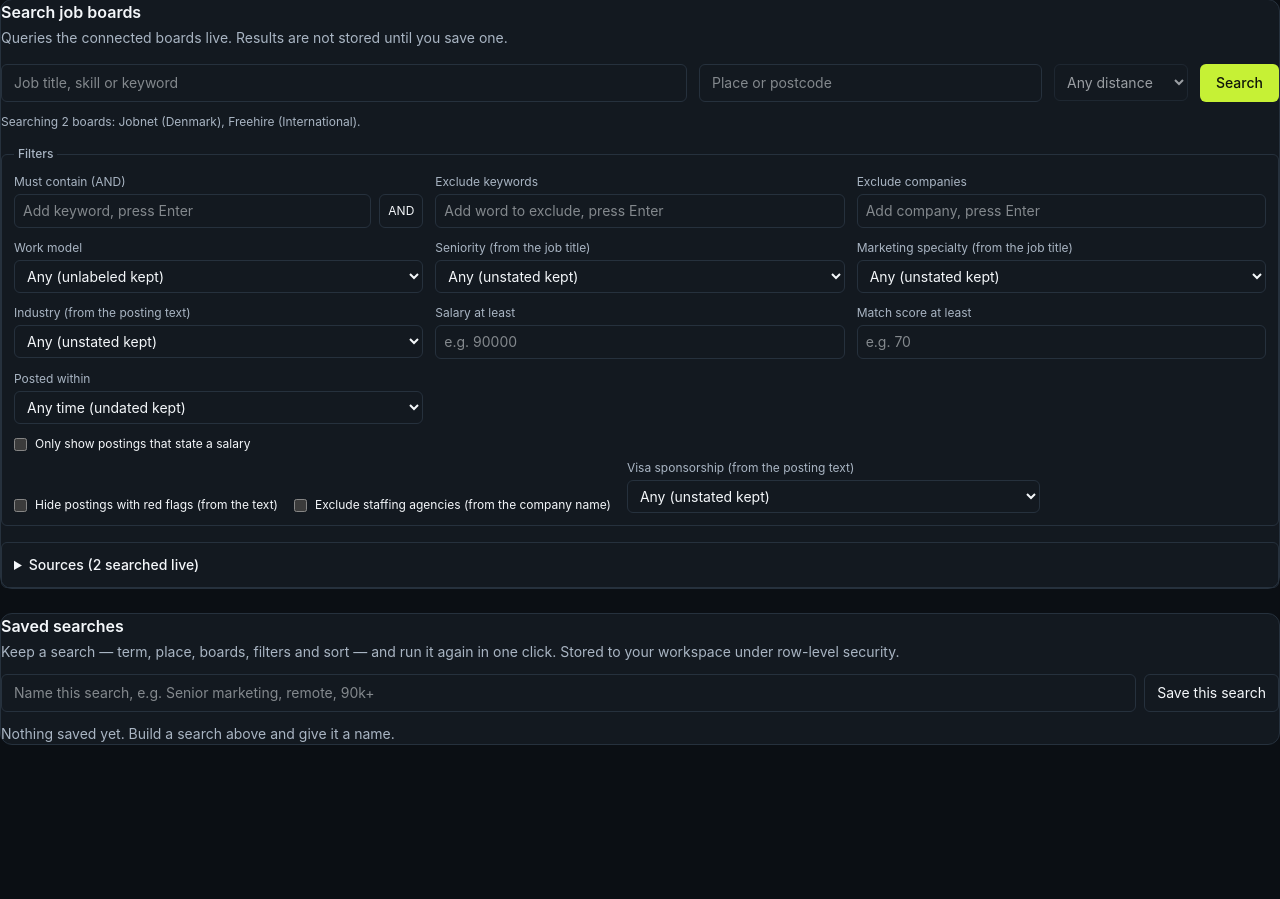
Test: the search panel › names a board that failed instead of quietly dropping it
The width and height of the screenshot is (1280, 899).
Expected: the text "Searching 2 boards:" is shown, x1=1 y1=114 x2=360 y2=129
Type "engineer" into the search field with placeholder "Job title, skill or keyword". click: (344, 83)
box: x1=1 y1=64 x2=687 y2=102
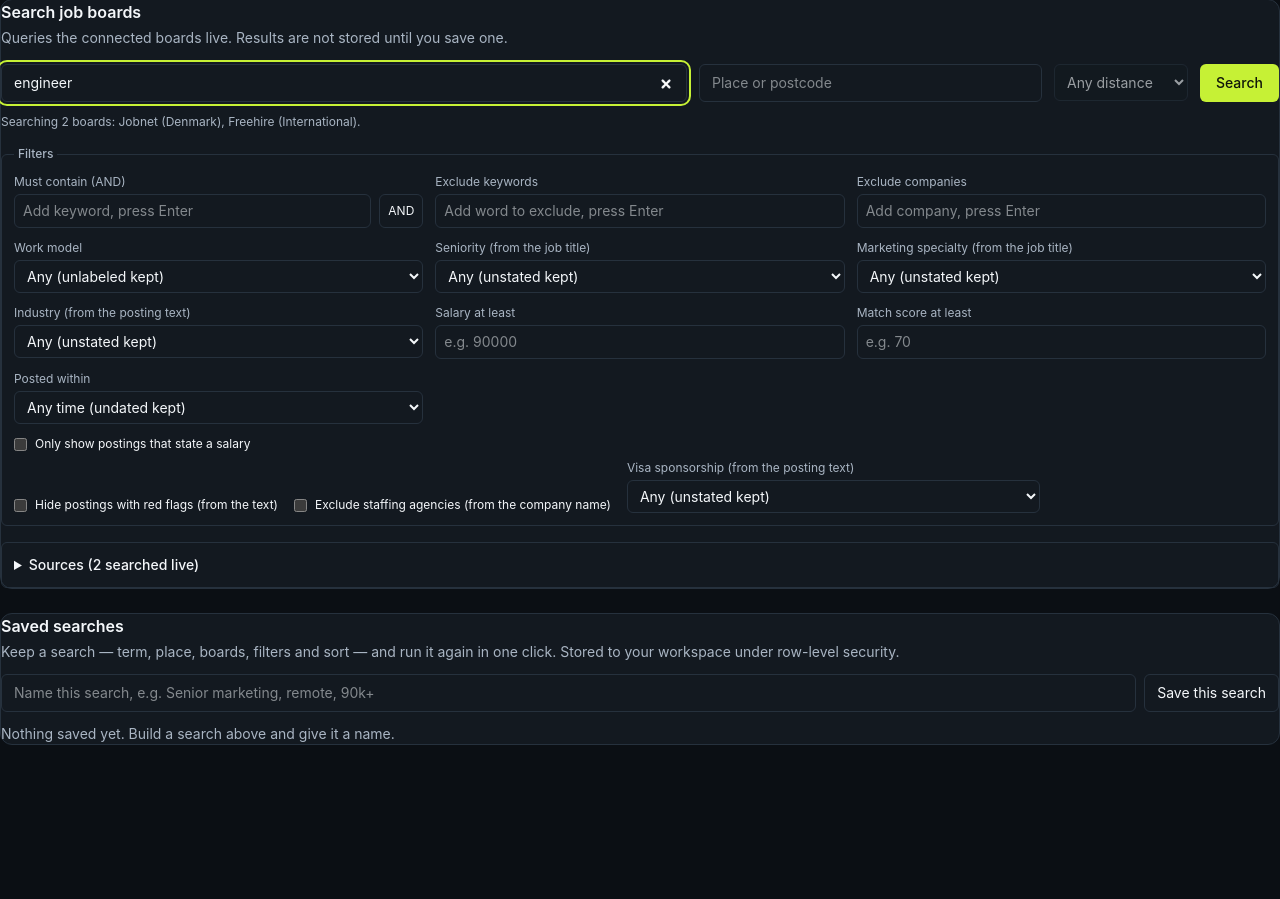
Click the button "Search". click: (1240, 83)
box: x1=1200 y1=64 x2=1279 y2=102
(page scrolled)
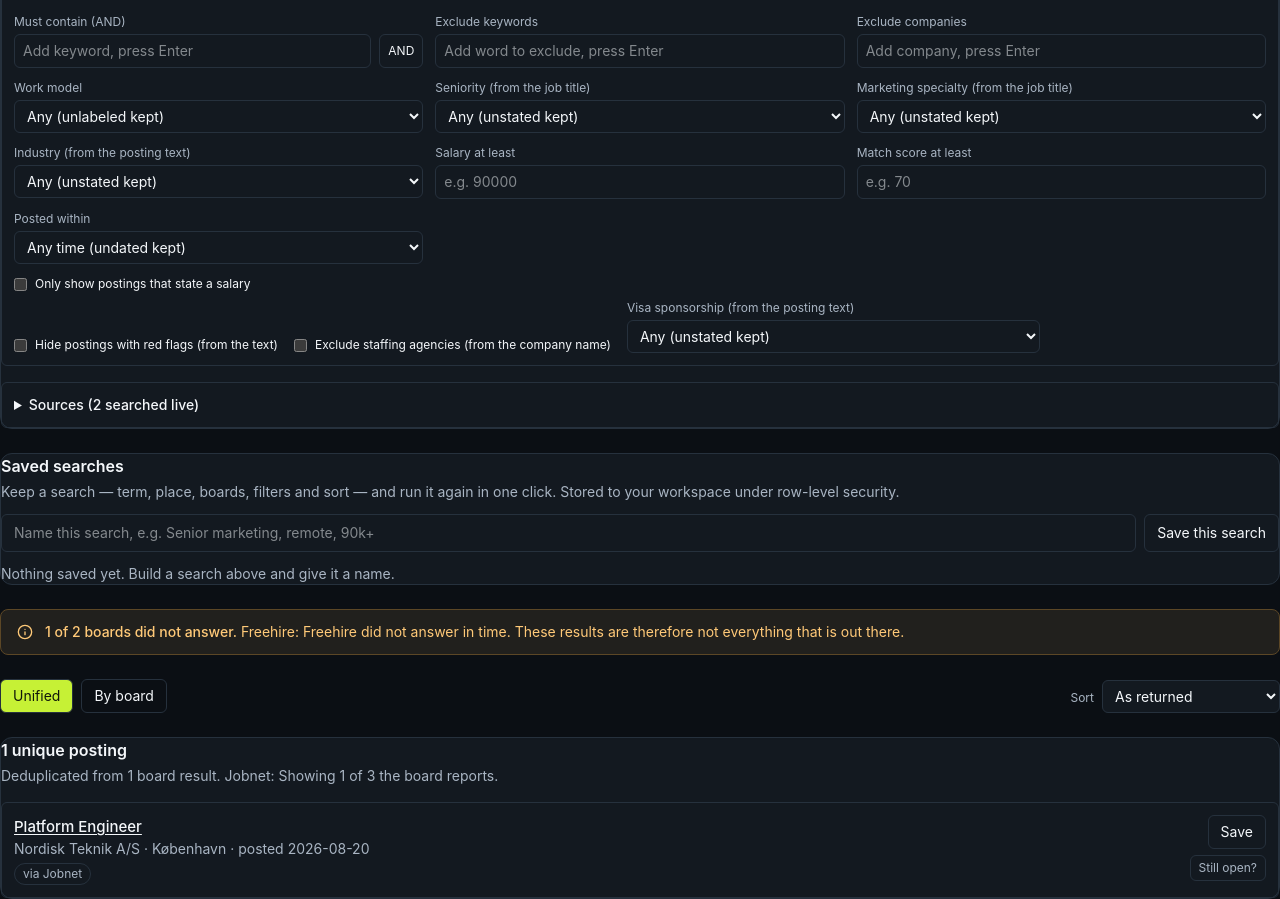
Now the text "Freehire did not answer in time" is shown, box x1=241 y1=623 x2=511 y2=640
Now the text "not everything that is out there" is shown, box x1=515 y1=623 x2=904 y2=640
Now the link "Platform Engineer" is shown, box x1=14 y1=817 x2=142 y2=836
